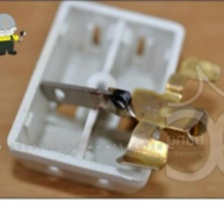three_eye_plug: (3, 0, 222, 195)
